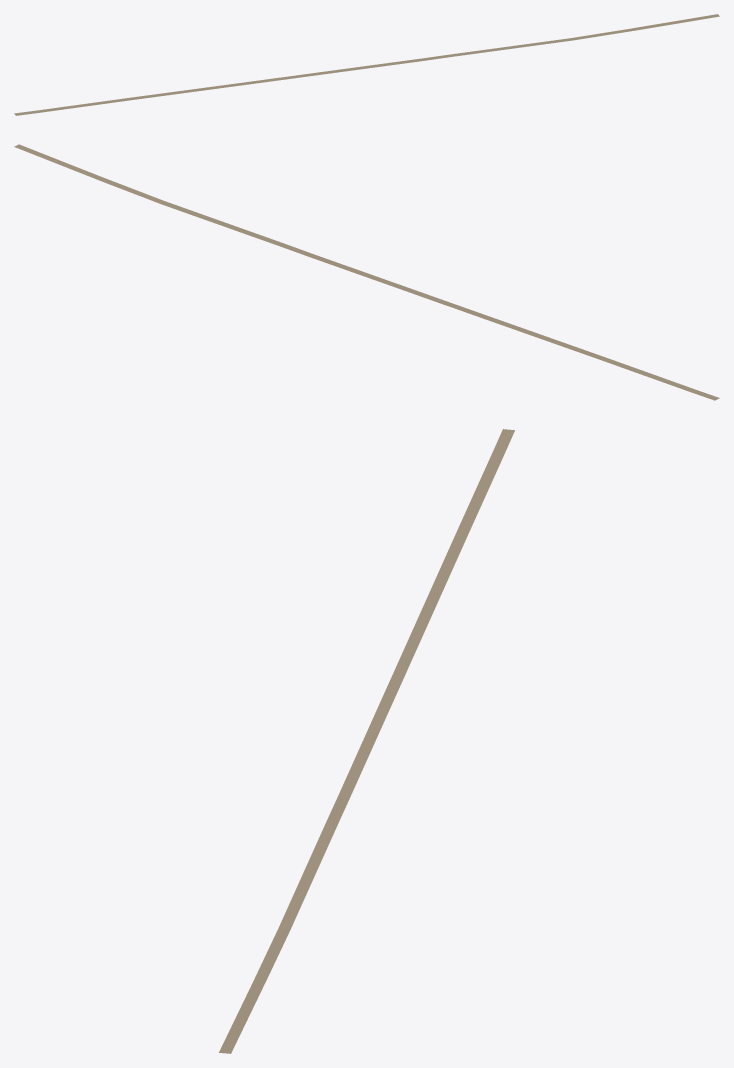
File: farm_6_11_track.glb
The picture shows the model from 3 angles, top to bottom: view 1: azimuth 30°, elevation 25°; view 2: azimuth 150°, elevation 25°; view 3: azimuth 270°, elevation 25°; orthographic projection. The views are drawn at different scales.
Parts seen in each view (by area): view 1: geometry_0; view 2: geometry_0; view 3: geometry_0.
Part boxes in pixels (x1,y1,x2,y2): geometry_0: (14,14,719,115); geometry_0: (14,144,719,400); geometry_0: (219,429,514,1053).
Size of the model in its own units: 384 by 3.31 by 77.71.
